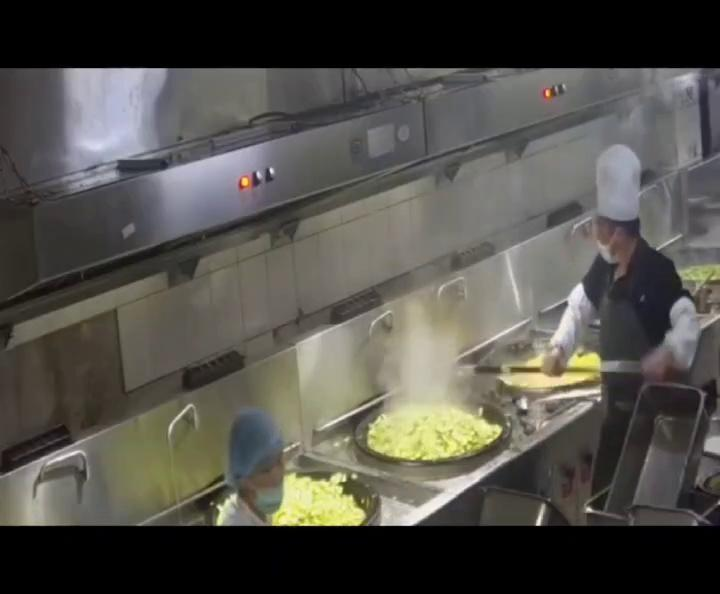mask: (258, 471, 289, 511)
